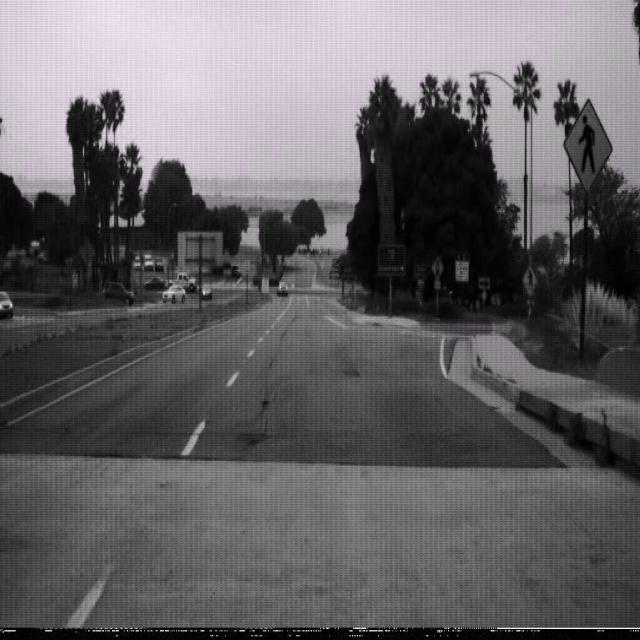pedestrianCrossing: (563, 97, 613, 194), (521, 264, 538, 296)
